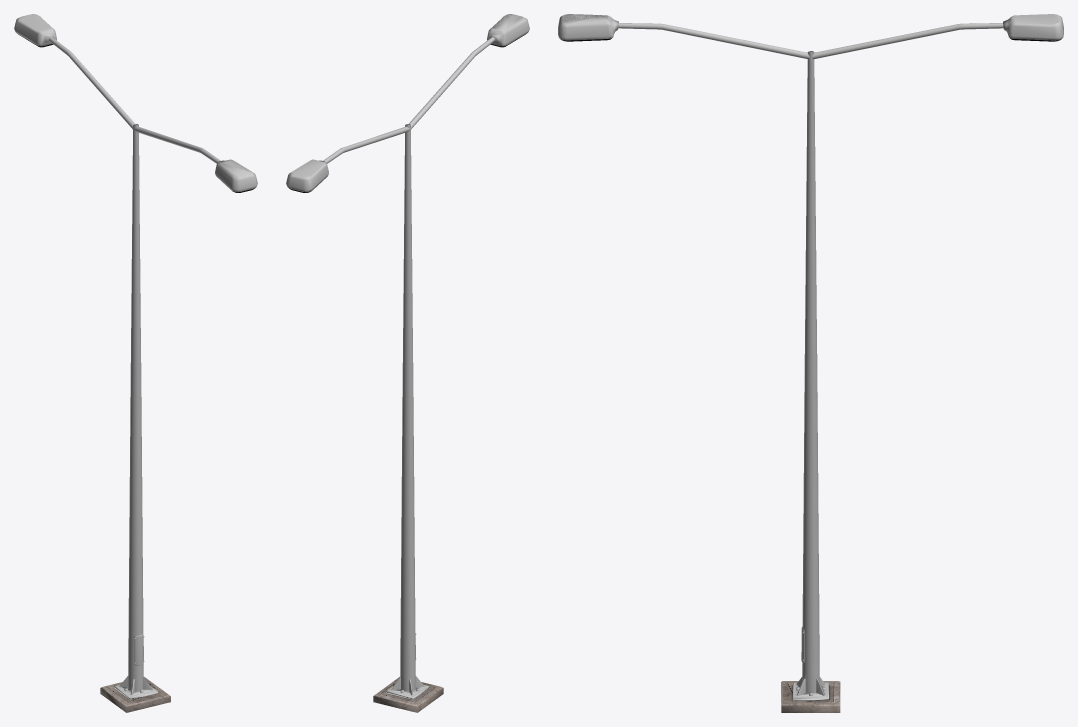
Rendered from laterne_01.fbx.
3 views of the same model, side by side, from view 1: azimuth 30°, elevation 25°; view 2: azimuth 150°, elevation 25°; view 3: azimuth 270°, elevation 25° (orthographic). The views are drawn at different scales.
Visible parts, largest first — view 1: laterne_einfach, laterne_doppelt; view 2: laterne_einfach, laterne_doppelt; view 3: laterne_einfach, laterne_doppelt.
Part boxes in pixels (bbox=[...]): laterne_einfach: bbox=[100, 124, 257, 712]; laterne_doppelt: bbox=[14, 14, 257, 703]; laterne_einfach: bbox=[373, 14, 529, 712]; laterne_doppelt: bbox=[286, 14, 527, 704]; laterne_einfach: bbox=[558, 14, 840, 712]; laterne_doppelt: bbox=[559, 14, 1063, 703].
Size of the model in its own units: 85.38 by 1107 by 744.
